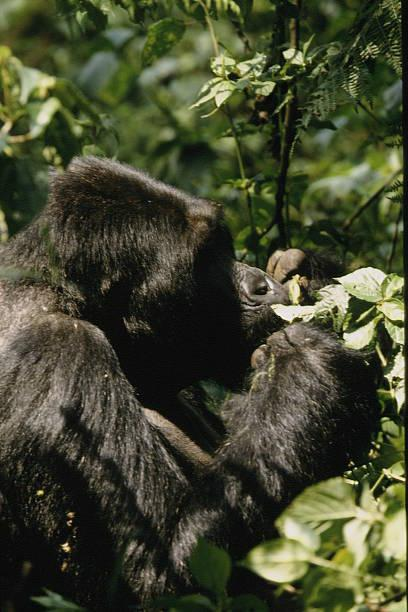goriile_montagne: (0, 162, 357, 604)
